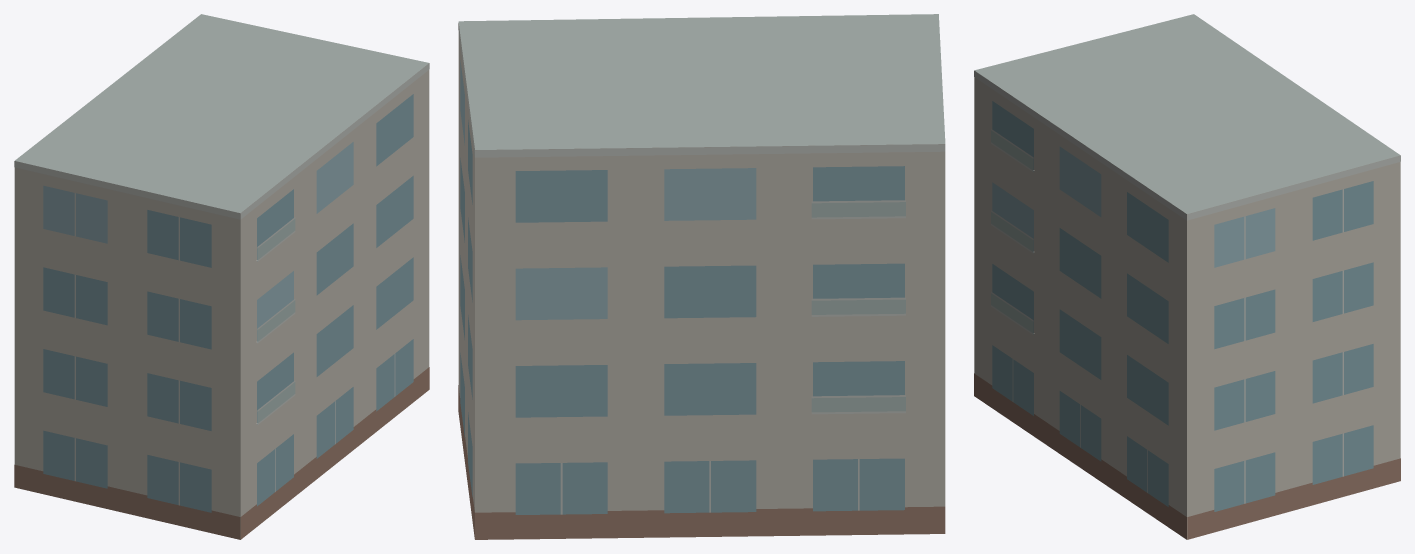
Rendered from survey-upis-32888265.glb.
The picture shows the model from 3 angles, left to right: view 1: azimuth 30°, elevation 25°; view 2: azimuth 150°, elevation 25°; view 3: azimuth 270°, elevation 25°; orthographic projection. The views are drawn at different scales.
Visible parts, largest first — view 1: survey-upis-32888265.tmp; view 2: survey-upis-32888265.tmp; view 3: survey-upis-32888265.tmp.
Part boxes in pixels (left/top/right/bottom): survey-upis-32888265.tmp: left=14, top=14, right=429, bottom=539; survey-upis-32888265.tmp: left=458, top=14, right=945, bottom=539; survey-upis-32888265.tmp: left=974, top=14, right=1400, bottom=539.
Bounding box in the file's own units: 16.23 × 12.3 × 14.61.
